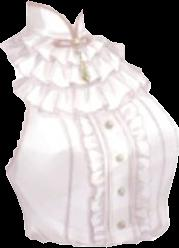Bodice: (0, 1, 177, 246)
Neckline: (27, 1, 84, 27), (25, 27, 86, 46)
Waistline: (0, 44, 125, 89), (10, 79, 148, 115), (24, 224, 169, 247), (11, 36, 106, 67)
